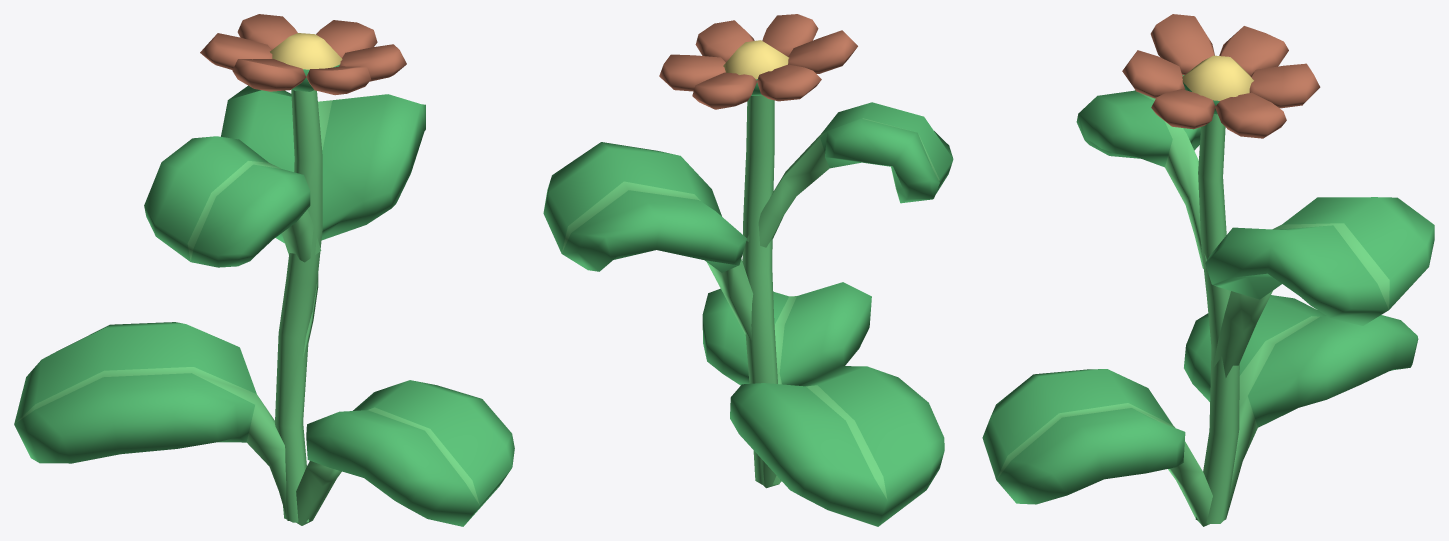
Rendered from Flora_A_01_LOD2.gltf.
3 renders of one model, left to right at view 1: azimuth 30°, elevation 25°; view 2: azimuth 150°, elevation 25°; view 3: azimuth 270°, elevation 25°, orthographic. The views are drawn at different scales.
Parts seen in each view (by area): view 1: Flora_A_01_LOD2_Plane.045; view 2: Flora_A_01_LOD2_Plane.045; view 3: Flora_A_01_LOD2_Plane.045.
Part boxes in pixels (bbox=[...]): Flora_A_01_LOD2_Plane.045: bbox=[14, 14, 514, 526]; Flora_A_01_LOD2_Plane.045: bbox=[543, 14, 953, 526]; Flora_A_01_LOD2_Plane.045: bbox=[982, 14, 1434, 526].
Size of the model in its own units: 4.42 by 5.07 by 4.36.
Materials: 1 (1 with a texture image).
